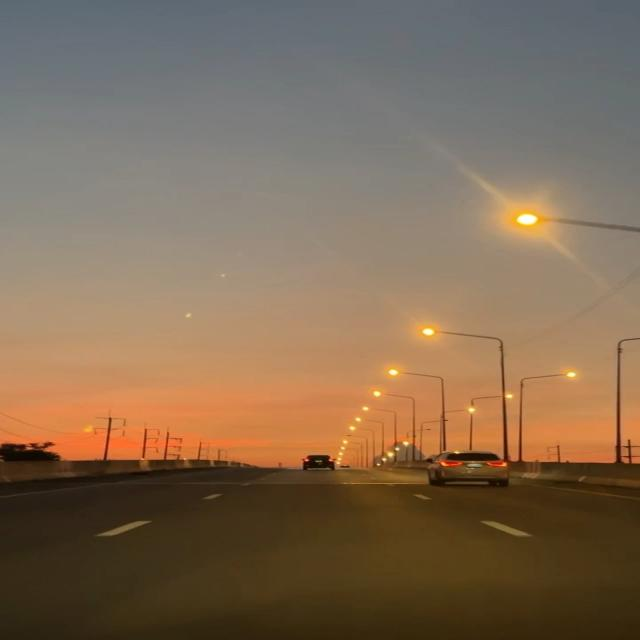Poth-hole: (69, 503, 434, 618)
